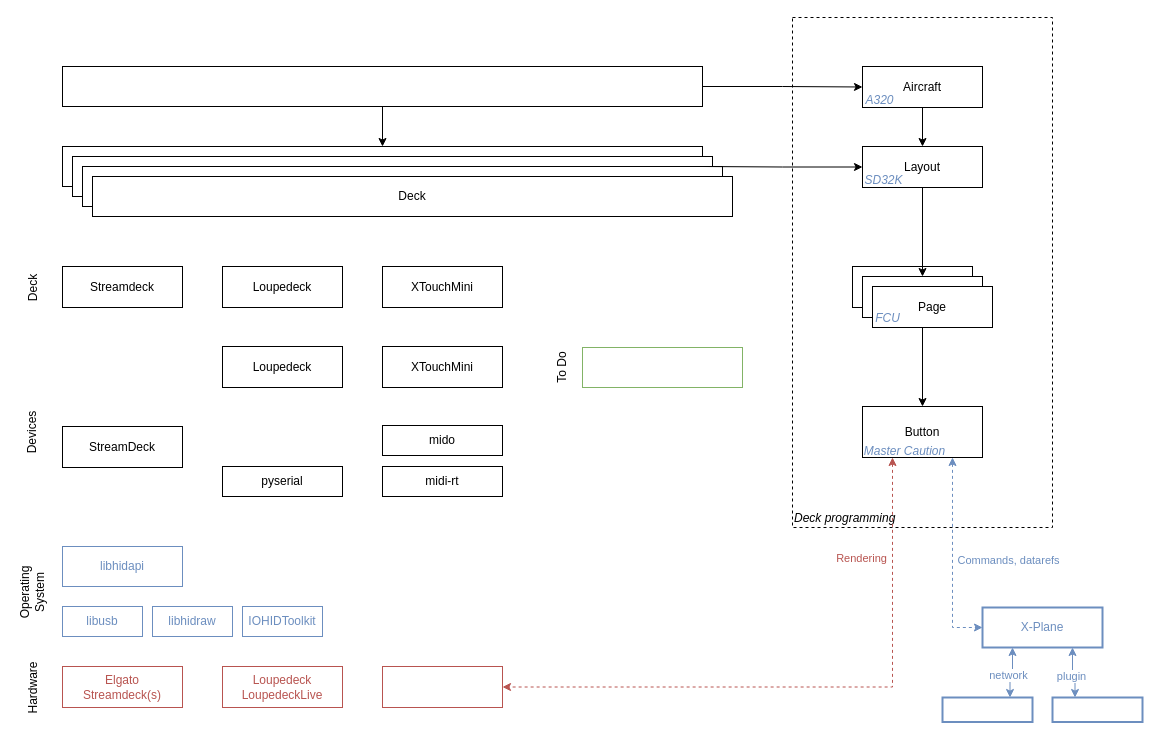
Image size: 1160x740. Some labels were removed from this diagram. Here are the shapes that lost their labels. From the top down, the centre of each, then its label:
At (x=382, y=86): "Cockpit".
At (x=662, y=367): "Open Sound Control".
At (x=442, y=687): "Behringer XTouchMini".
At (x=987, y=709): "XPlaneUDP".
At (x=1097, y=709): "XPlaneSDK".
